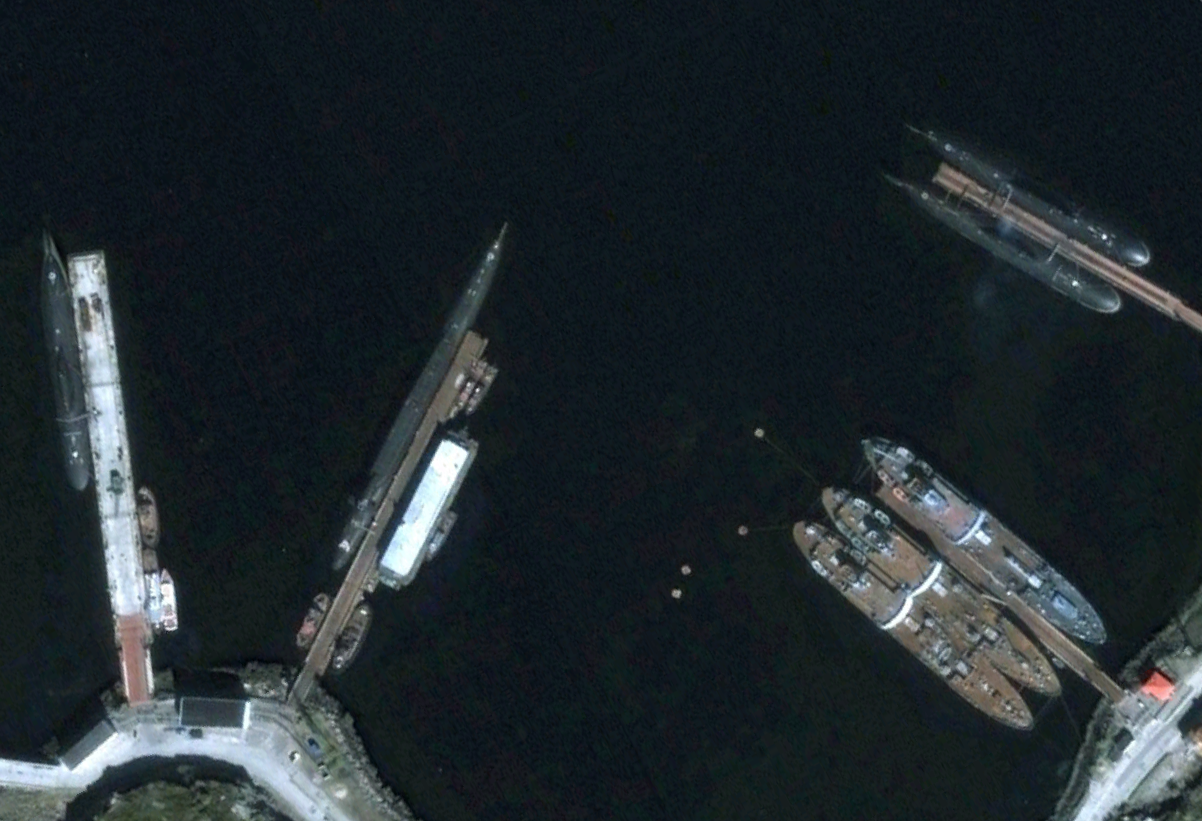merchant ship: (857, 432, 1108, 646), (819, 482, 1060, 698), (792, 517, 1034, 730), (330, 606, 370, 675), (294, 592, 328, 647), (448, 364, 481, 417), (137, 486, 161, 547), (425, 513, 456, 556), (465, 365, 493, 411), (161, 570, 179, 634)
submarine: (327, 220, 508, 569), (904, 117, 1150, 267), (875, 167, 1122, 314), (38, 230, 93, 492)
